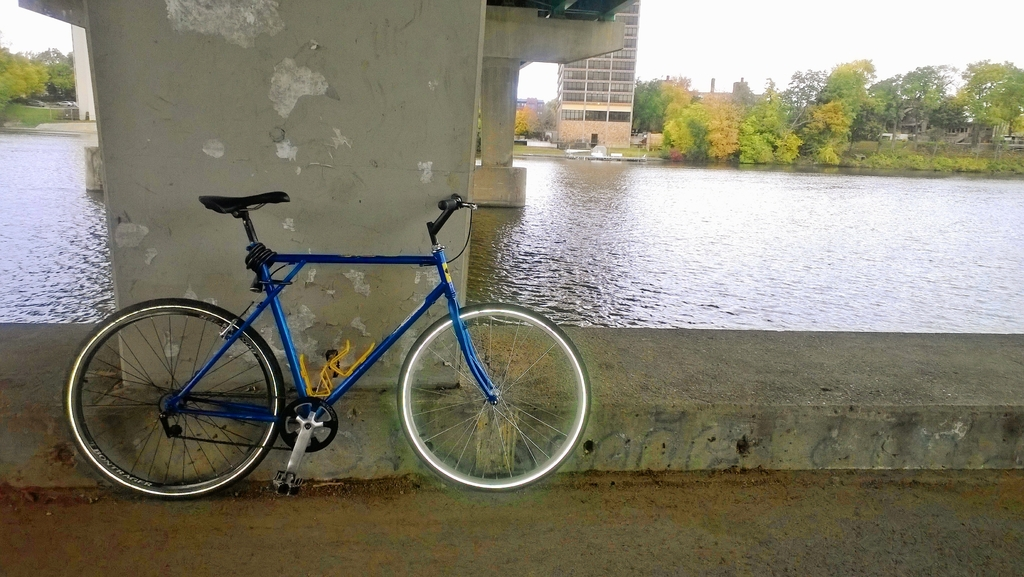Bike_toward: (64, 176, 593, 519)
